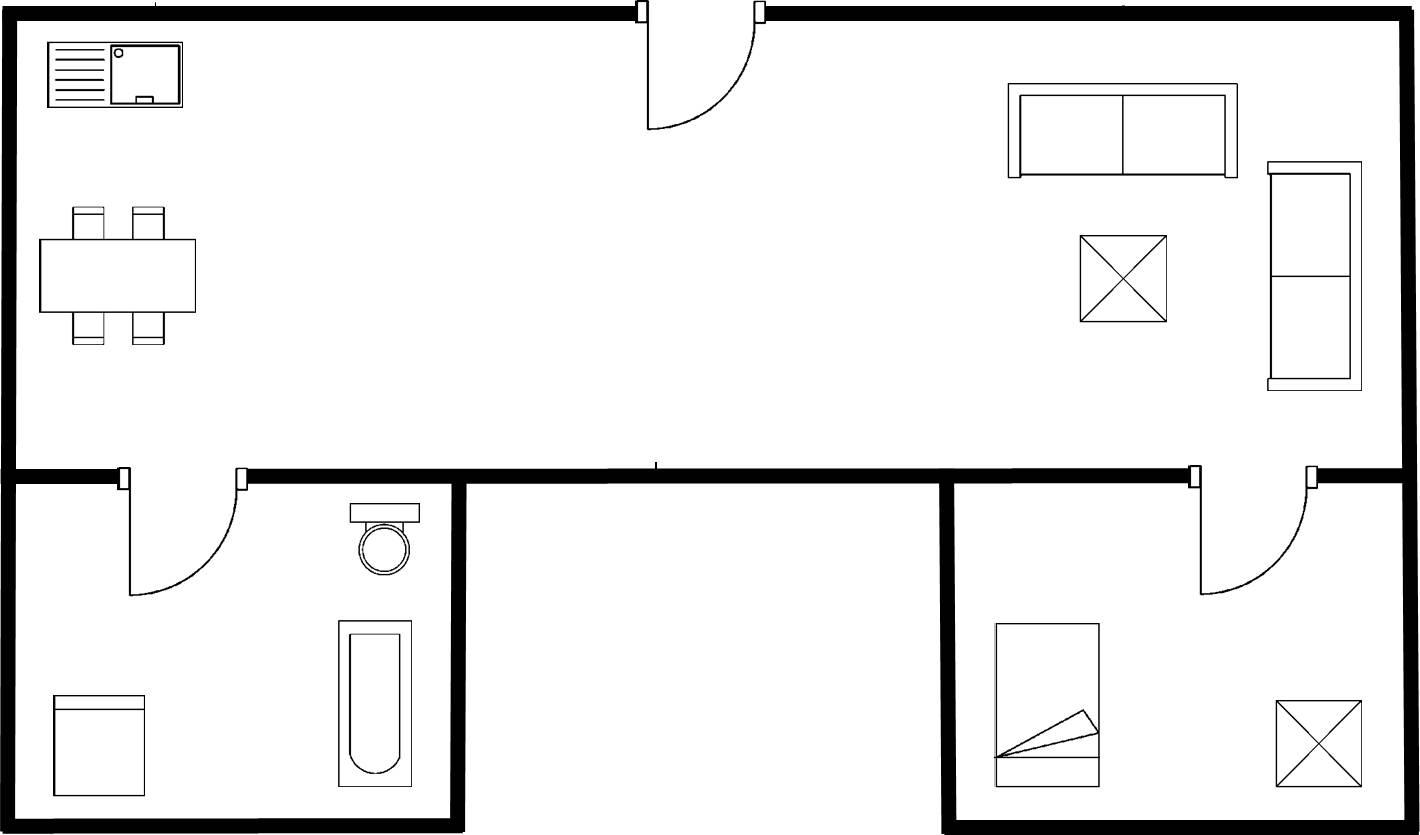bed: (988, 616, 1105, 793)
dining_table: (32, 200, 203, 348)
sink: (41, 35, 187, 114)
sofa: (1001, 77, 1244, 185), (1260, 154, 1367, 397)
toilet: (342, 496, 427, 579)
tub: (331, 614, 417, 792)
